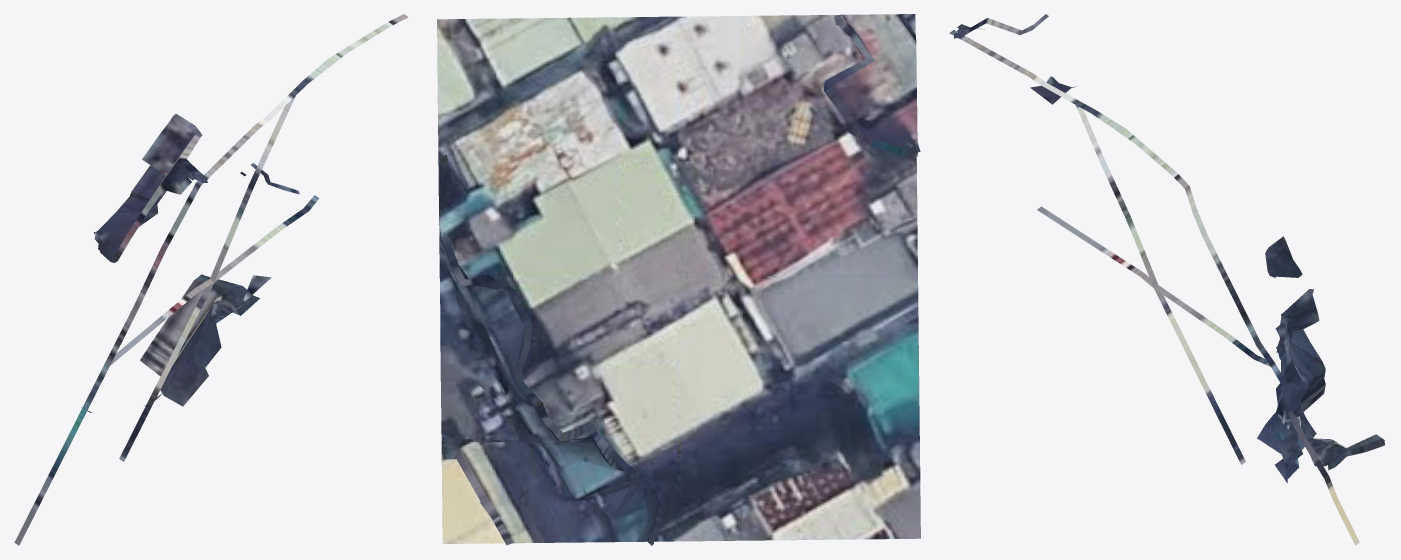
3 renders of one model, left to right at view 1: azimuth 30°, elevation 25°; view 2: azimuth 150°, elevation 25°; view 3: azimuth 270°, elevation 25°, orthographic. The views are drawn at different scales.
Size of the model in its own units: 37.97 by 37.03 by 34.27.
Materials: 1 (1 with a texture image).
